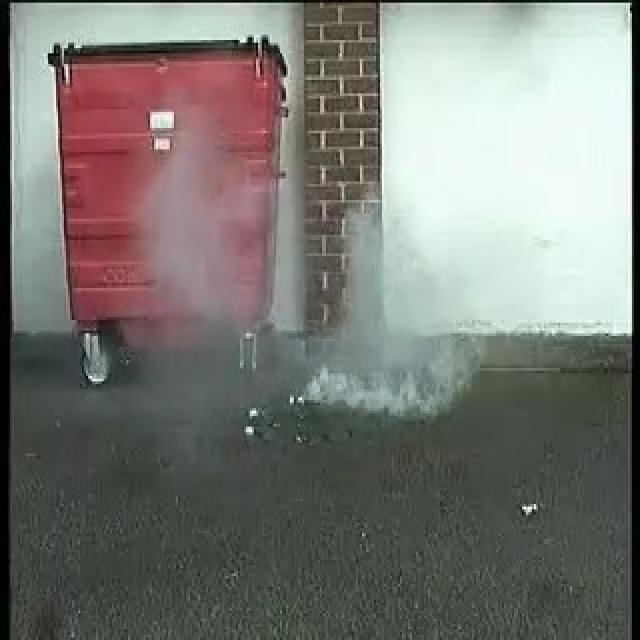smoke: (290, 221, 452, 413)
